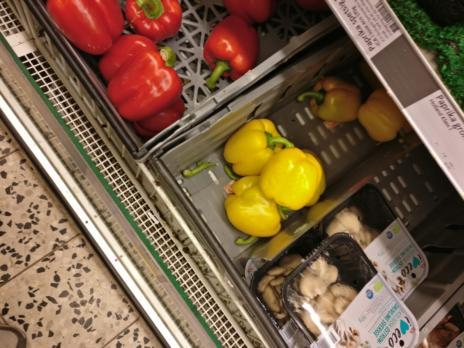Capsicum: (216, 117, 325, 239), (98, 31, 191, 120), (301, 68, 403, 140), (43, 0, 137, 54), (205, 13, 260, 77)
